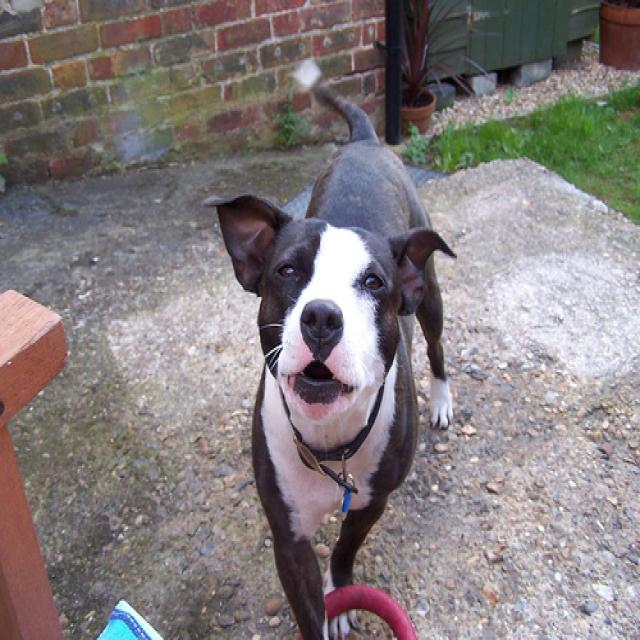dog-staffordshire_bull_terrier: (211, 65, 462, 637)
